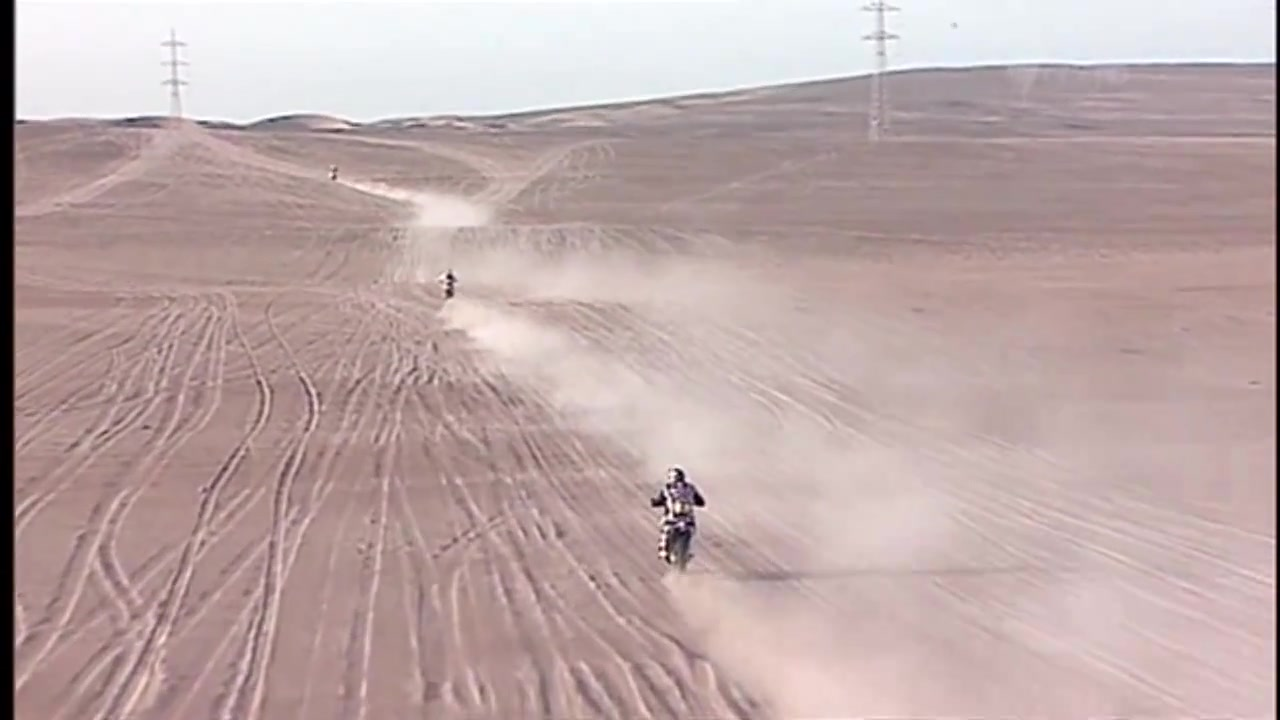motorbike: (648, 488, 706, 577)
